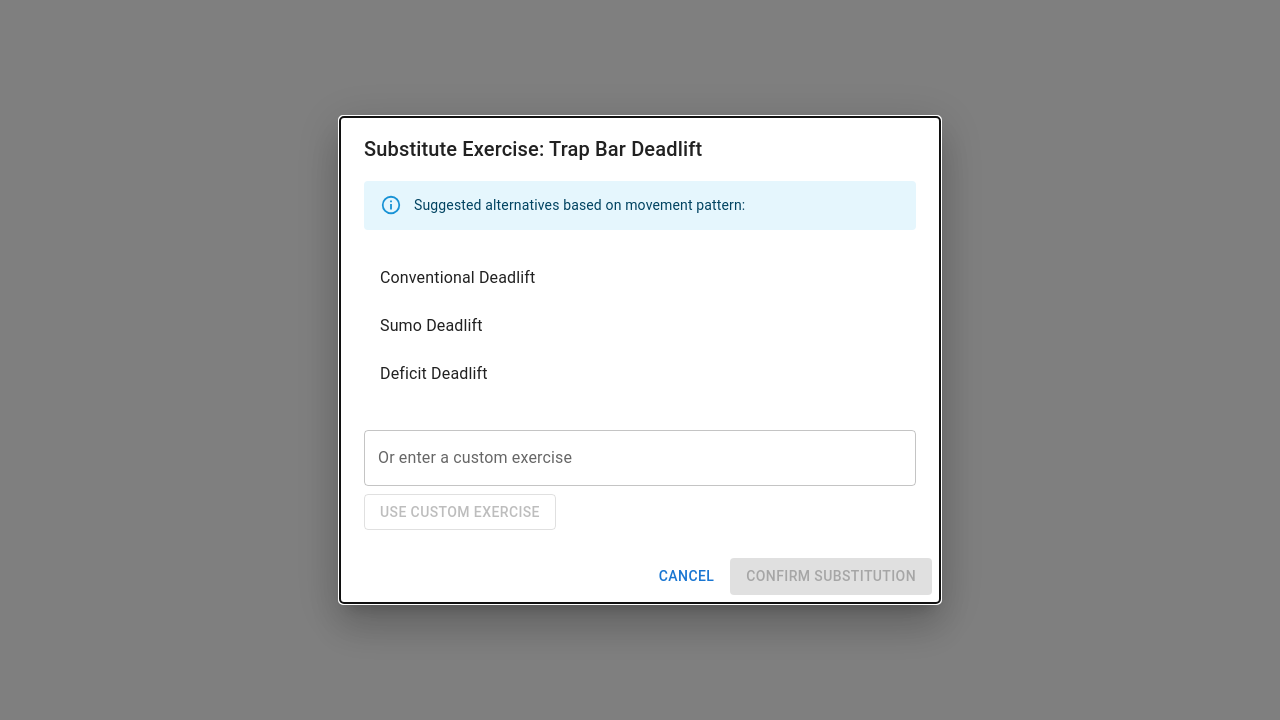
Test: ExerciseSubstitutionModal › should validate substitution when alternative is selected
// Click on an alternative
Click the button "Conventional Deadlift". click: coordinates (458, 277)
box: [380,268,535,286]
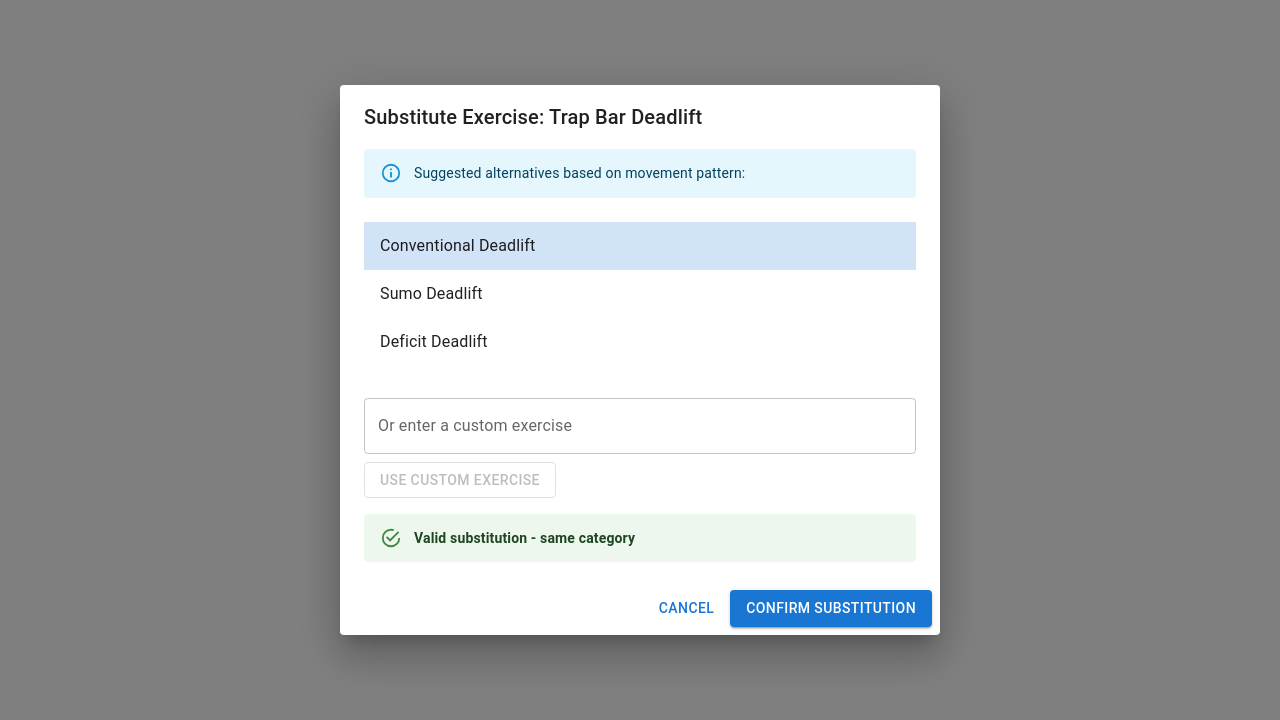
Expected: the text "Valid substitution - same category" is shown, [414,530,635,546]
